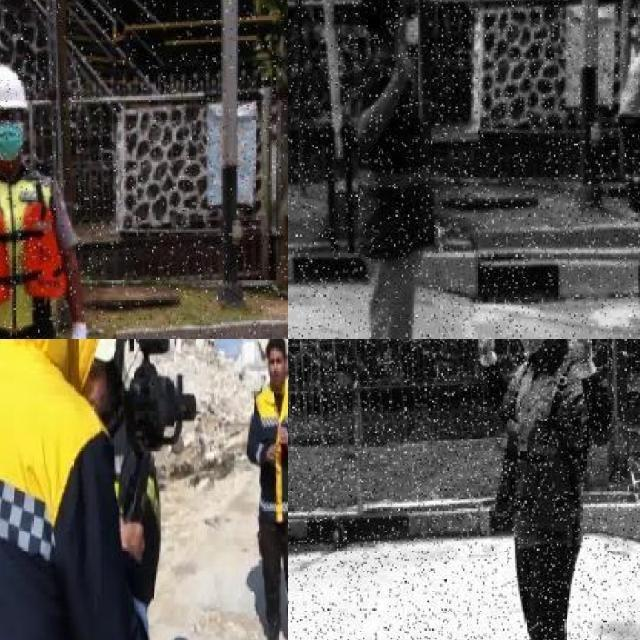apron: (562, 339, 600, 380), (472, 339, 499, 371), (62, 322, 96, 339)
